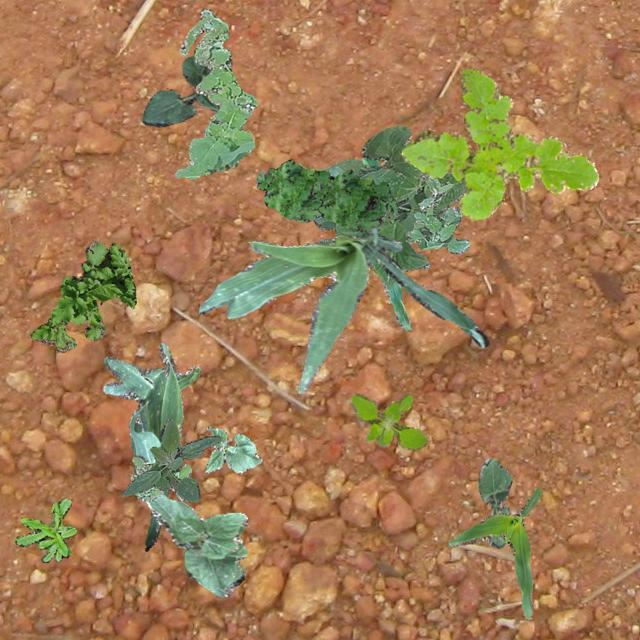crop: (197, 165, 488, 392), (312, 124, 466, 286), (102, 342, 200, 550), (302, 156, 410, 330), (448, 486, 540, 618), (144, 494, 246, 596), (142, 54, 218, 125), (478, 458, 512, 546), (204, 426, 262, 472)
weed: (400, 68, 598, 220), (174, 8, 256, 178), (28, 240, 136, 352), (120, 418, 220, 502), (311, 168, 398, 234), (404, 172, 468, 252), (254, 158, 328, 222), (348, 392, 426, 449), (14, 498, 76, 562), (130, 454, 190, 501)
